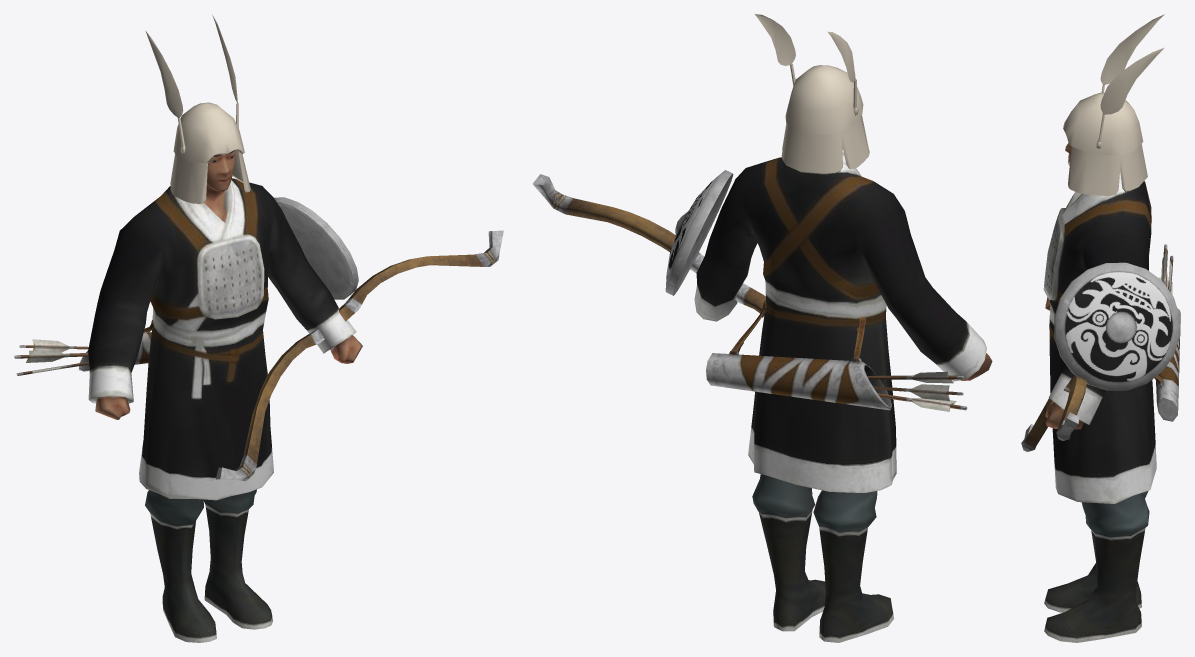
Rendered from 29-firearcher.glb.
3 renders of one model, left to right at view 1: azimuth 30°, elevation 25°; view 2: azimuth 150°, elevation 25°; view 3: azimuth 270°, elevation 25°, orthographic. The views are drawn at different scales.
Bounding box in the file's own units: 1.9 × 2.37 × 0.5812.
Materials: 4 (3 with a texture image).
